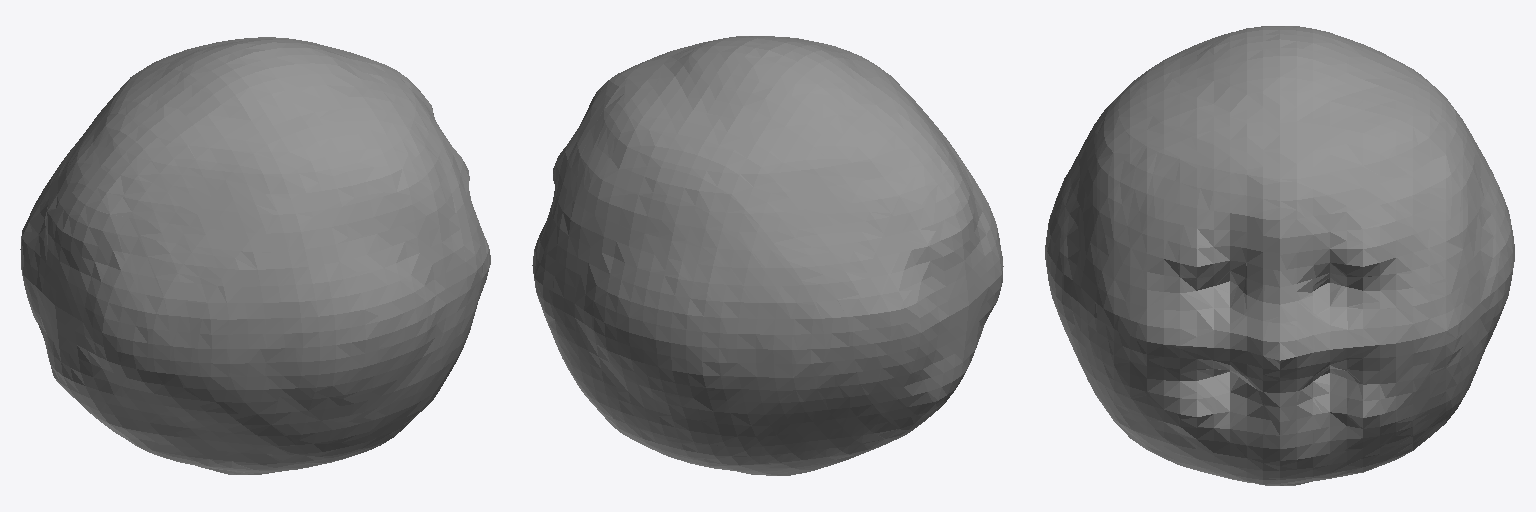
URDF robot description (cube.urdf):
<?xml version="0.0" ?> 
<robot name="cube.urdf"> 
<link name="legobrick"> 
<contact> 
<lateral_friction value="5.0"/> 
<rolling_friction value="0.0"/> 
<contact_cfm value="0.0"/> 
<contact_erp value="1.0"/> 
</contact> 
<inertial> 
<origin rpy="0 0 0" xyz="0.0 0.0 0.0"/> 
<mass value=".01"/> 
<inertia ixx="1" ixy="0" ixz="0" iyy="1" iyz="0" izz="1"/> 
</inertial> 
<visual> 
<origin rpy="1.570796 0 0" xyz="-0.04584528151763042 0.05938066265049217 -0.05937581644139012"/> 
<geometry> 
<mesh filename="C14_0.obj" scale="0.0006836678471764486 0.0006836678471764486 0.0006836678471764486"/> 
</geometry> 
<material name="yellow"> 
<color rgba="0.6 0.6 0.6 1"/> 
</material> 
</visual> 
<collision> 
<origin rpy="1.570796 0 0" xyz="-0.04584528151763042 0.05938066265049217 -0.05937581644139012"/> 
<geometry> 
<mesh filename="C14_0.obj" scale="0.0006836678471764486 0.0006836678471764486 0.0006836678471764486"/> 
</geometry> 
</collision> 
</link> 
</robot>

--- Facts derived from the render (not from the file) ---
3 views of the same robot in one strip: view 1: azimuth 30°, elevation 25°; view 2: azimuth 150°, elevation 25°; view 3: azimuth 270°, elevation 25° (orthographic).
Robot: cube.urdf — 1 links, 0 joints (none); root link legobrick; default pose: every joint at zero.
Visible links, largest first — view 1: legobrick; view 2: legobrick; view 3: legobrick.
Link boxes in pixels (x1,y1,x2,y2): legobrick: (20,37,490,474); legobrick: (532,36,1003,475); legobrick: (1045,26,1514,485).
Bounding box of the posed robot: 0.0587 × 0.056 × 0.056 m (x, y, z).
Meshes: 1 distinct files referenced, 1 mesh visuals loaded (1 OBJ).
